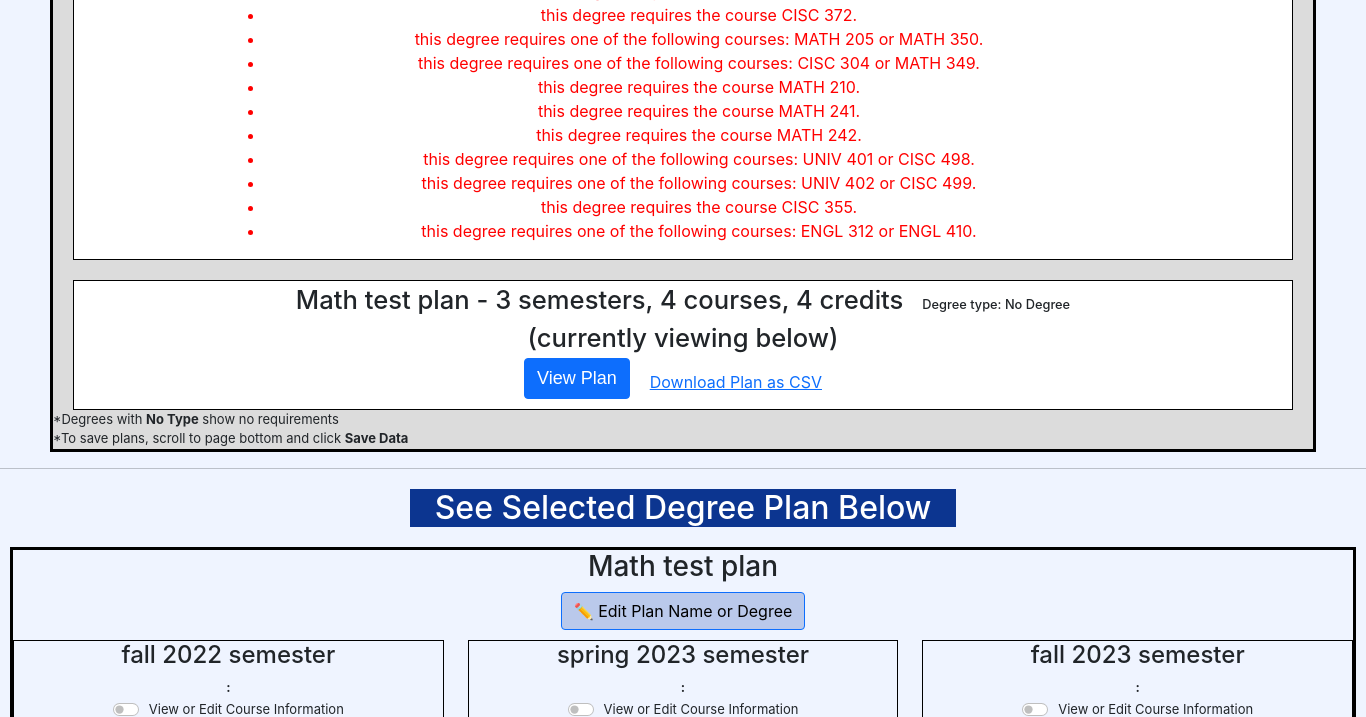
Test: ViewDegreePlan Tests › Test Add Courses To Plan button
(page scrolled)
Click the button with test id "107-degree-plan" at (577, 378), box [524,358,630,399]
(page scrolled)
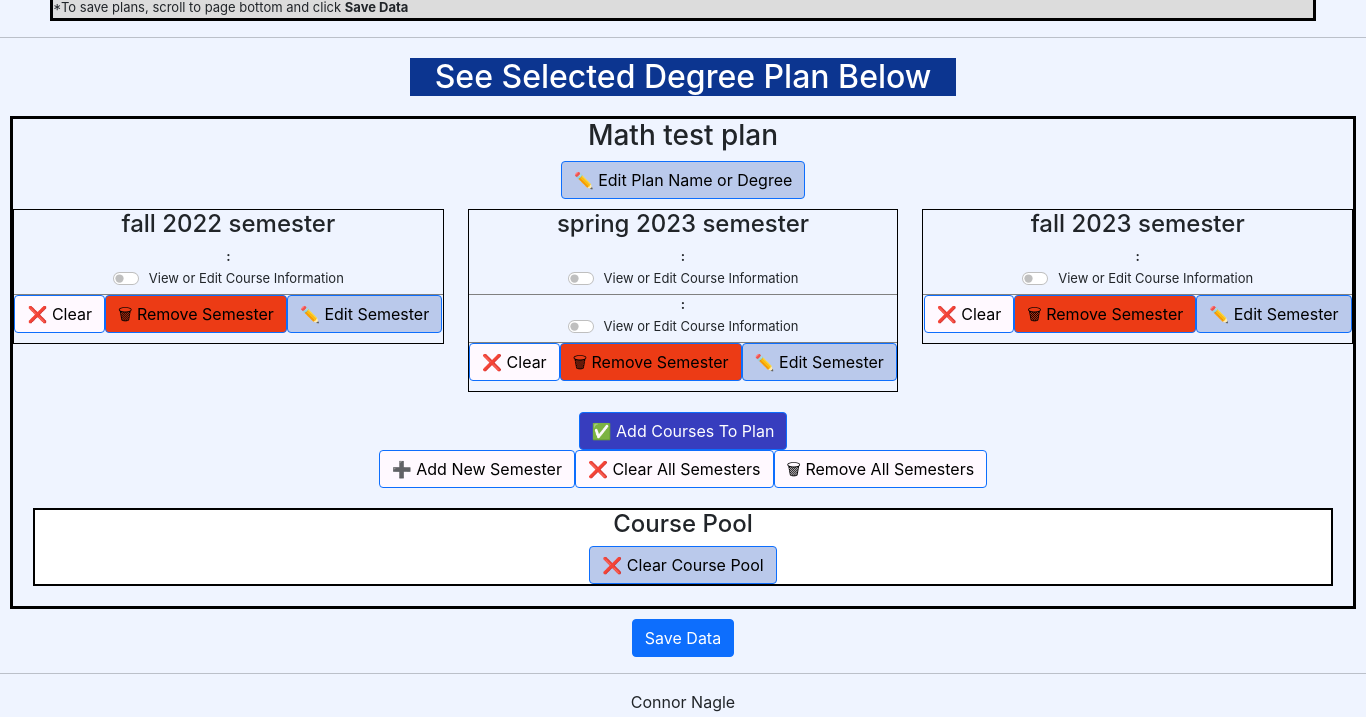
Click the button with test id "107-add-course-degree-plan" at (683, 430), box [579,412,787,450]
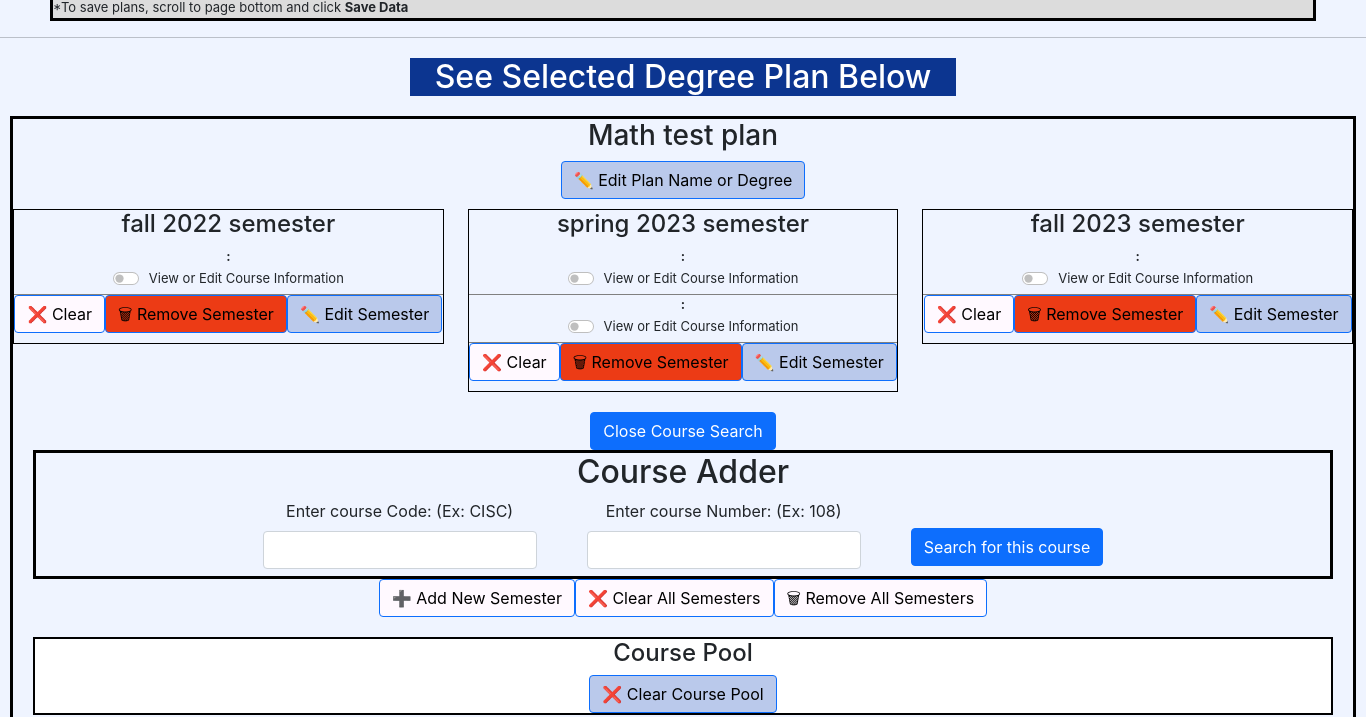
Expected: the number of headings "Course Adder" is 1, [577,452,789,490]
Expected: the text "Enter course Code: (Ex: CISC)" is shown once, [286,499,513,523]
Expected: the text "Enter course Number: (Ex: 108)" is shown once, [606,499,842,523]
Click the button with test id "107-close-add-course-degree-plan" at (683, 430), box [590,412,776,450]
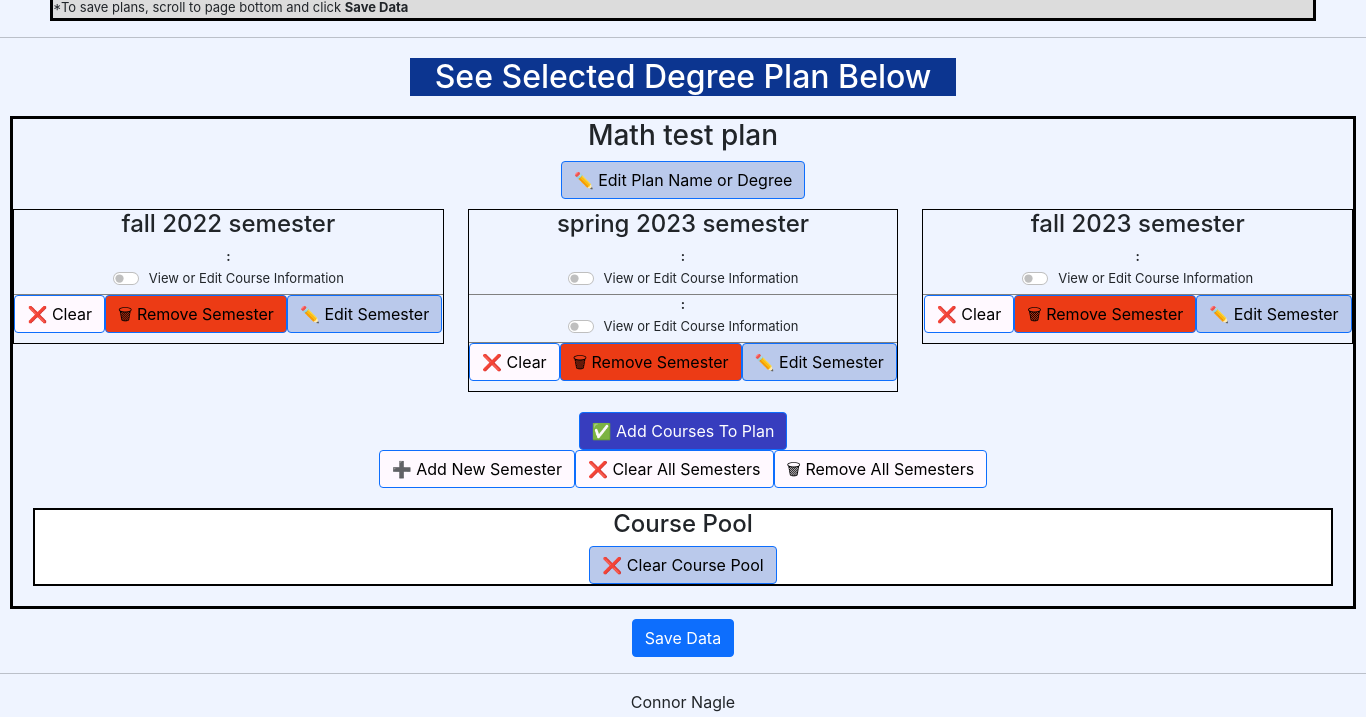
Expected: no headings "Course Adder" are shown
Expected: the text "Enter course Code: (Ex: CISC)" is not shown
Expected: the text "Enter course Number: (Ex: 108)" is not shown
